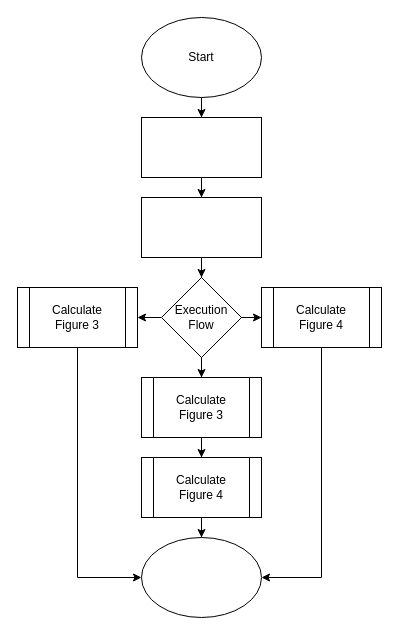
Image size: 399x635. Some labels were removed from this diagram. Each missing label, with the centre of its shape:
"End" belongs at (201,577).
"Initialize folders and workspace" belongs at (201,227).
"Load arguments" belongs at (201,147).
